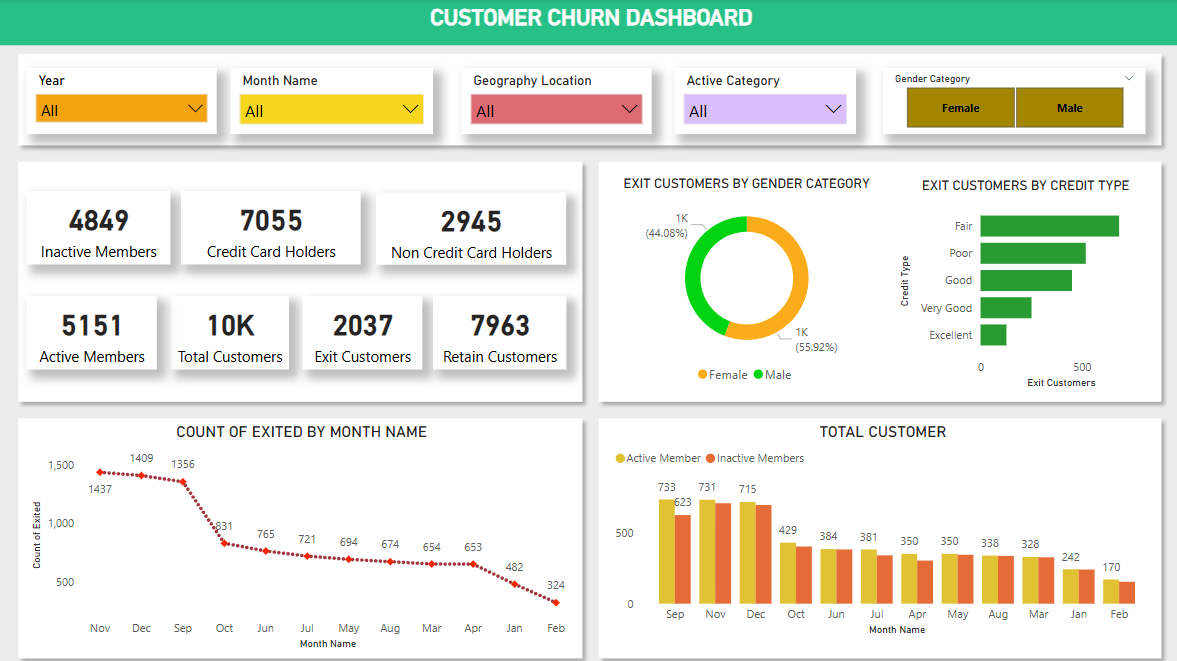

Layout of this report page (visuals, bound fields, positions):
{"tool":"powerbi","page":{"name":"Churn Dashboard","canvas":[1280,720],"ordinal":0},"visuals":[{"type":"shape","box":[0,0,1280.8,720.6],"z":0},{"type":"shape","box":[639.6,166.8,625,276.9],"z":1000},{"type":"donutChart","title":"EXIT CUSTOMERS BY GENDER CATEGORY","fields":{"Y":["Analysis Measures.Exit Customers"],"Category":["Bank_Churn.Gender Category"]},"box":[660.6,191.1,294.7,233.2],"z":2000},{"type":"textbox","box":[0,0,1280.8,50.2],"z":3000},{"type":"clusteredBarChart","title":"EXIT CUSTOMERS BY CREDIT TYPE","fields":{"Category":["Bank_Churn.Credit Type"],"Y":["Analysis Measures.Exit Customers"]},"box":[968.3,192.7,281.7,231.5],"z":4000},{"type":"shape","box":[639.6,443.7,625,276.9],"z":5000},{"type":"clusteredColumnChart","title":"TOTAL CUSTOMER","fields":{"Category":["Bank_Churn.Month Name"],"Y":["Analysis Measures.Active Member","Analysis Measures.Inactive Members"]},"box":[660.6,456.6,589.4,234.8],"z":6000},{"type":"shape","box":[13,443.7,626.6,276.9],"z":7000},{"type":"lineChart","title":"COUNT OF EXITED BY MONTH NAME","fields":{"Category":["Bank_Churn.Month Name"],"Y":["Analysis Measures.Count of Exited"]},"box":[30.8,456.6,594.3,249.4],"z":8000},{"type":"shape","box":[13,166.8,626.6,276.9],"z":9000},{"type":"card","fields":{"Values":["CountNonNull(Bank_Churn.CustomerId)"]},"box":[186.2,320.6,127.9,79.3],"z":10000},{"type":"card","fields":{"Values":["Sum(Bank_Churn.IsActiveMember)"]},"box":[30.8,320.6,140.9,79.3],"z":11000},{"type":"card","fields":{"Values":["Analysis Measures.Inactive Members"]},"box":[30.8,207.3,155.4,79.3],"z":12000},{"type":"card","fields":{"Values":["Sum(Bank_Churn.HasCrCard)"]},"box":[197.5,207.3,194.3,79.3],"z":13000},{"type":"card","fields":{"Values":["Analysis Measures.Non Credit Card Holders"]},"box":[408,208.9,205.6,77.7],"z":14000},{"type":"card","fields":{"Values":["Sum(Bank_Churn.Exited)"]},"box":[328.7,320.6,129.5,79.3],"z":15000},{"type":"card","fields":{"Values":["Analysis Measures.Retain Customers"]},"box":[469.6,320.6,144.1,79.3],"z":16000},{"type":"shape","box":[13,50.2,1251.7,116.6],"z":17000},{"type":"slicer","fields":{"Values":["Date Table.Year"]},"box":[30.8,74.5,205.6,71.2],"z":18000},{"type":"slicer","fields":{"Values":["Bank_Churn.Month Name"]},"box":[251,74.5,218.6,71.2],"z":19000},{"type":"slicer","fields":{"Values":["Geography.GeographyLocation"]},"box":[500.3,74.5,205.6,71.2],"z":20000},{"type":"slicer","fields":{"Values":["Bank_Churn.IsActiveMember"]},"box":[730.3,74.5,195.9,71.2],"z":21000},{"type":"slicer","fields":{"Values":["Bank_Churn.Gender Category"]},"box":[955.3,74.5,283.4,71.2],"z":22000}]}

Visuals, with their boxes in screenshot pixels (x1, y1, x2, y2), scaled from the page's 1280x720 canvas onto the 1177x661 screenshot:
shape: crop(0, 0, 1176, 660)
shape: crop(588, 153, 1163, 407)
"EXIT CUSTOMERS BY GENDER CATEGORY" donutChart: crop(607, 175, 878, 390)
textbox: crop(0, 0, 1176, 46)
"EXIT CUSTOMERS BY CREDIT TYPE" clusteredBarChart: crop(890, 177, 1149, 389)
shape: crop(588, 407, 1163, 660)
"TOTAL CUSTOMER" clusteredColumnChart: crop(607, 419, 1149, 635)
shape: crop(12, 407, 588, 660)
"COUNT OF EXITED BY MONTH NAME" lineChart: crop(28, 419, 575, 648)
shape: crop(12, 153, 588, 407)
card - CountNonNull(Bank_Churn.CustomerId): crop(171, 294, 289, 367)
card - Sum(Bank_Churn.IsActiveMember): crop(28, 294, 158, 367)
card - Analysis Measures.Inactive Members: crop(28, 190, 171, 263)
card - Sum(Bank_Churn.HasCrCard): crop(182, 190, 360, 263)
card - Analysis Measures.Non Credit Card Holders: crop(375, 192, 564, 263)
card - Sum(Bank_Churn.Exited): crop(302, 294, 421, 367)
card - Analysis Measures.Retain Customers: crop(432, 294, 564, 367)
shape: crop(12, 46, 1163, 153)
slicer - Date Table.Year: crop(28, 68, 217, 134)
slicer - Bank_Churn.Month Name: crop(231, 68, 432, 134)
slicer - Geography.GeographyLocation: crop(460, 68, 649, 134)
slicer - Bank_Churn.IsActiveMember: crop(672, 68, 852, 134)
slicer - Bank_Churn.Gender Category: crop(878, 68, 1139, 134)
